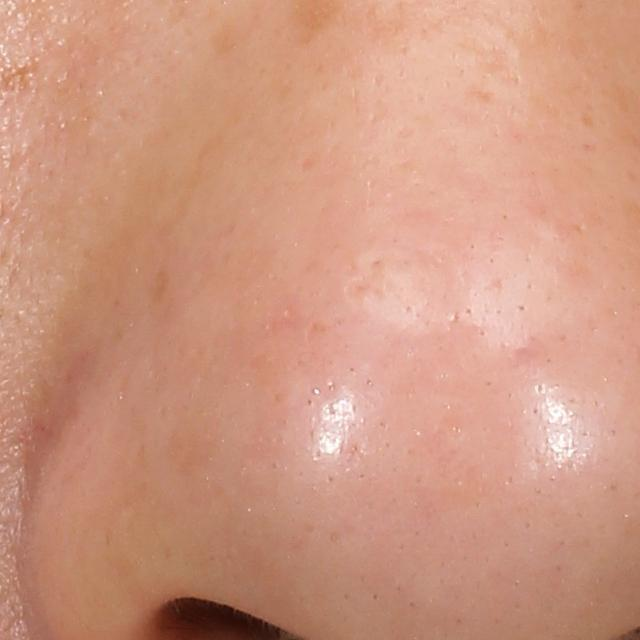atrophic_scar: (342, 251, 397, 309)
